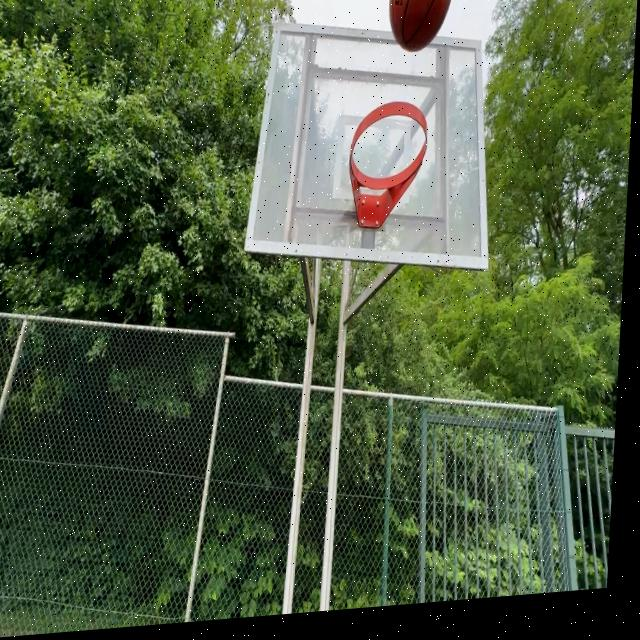Basketball: (388, 0, 456, 53)
